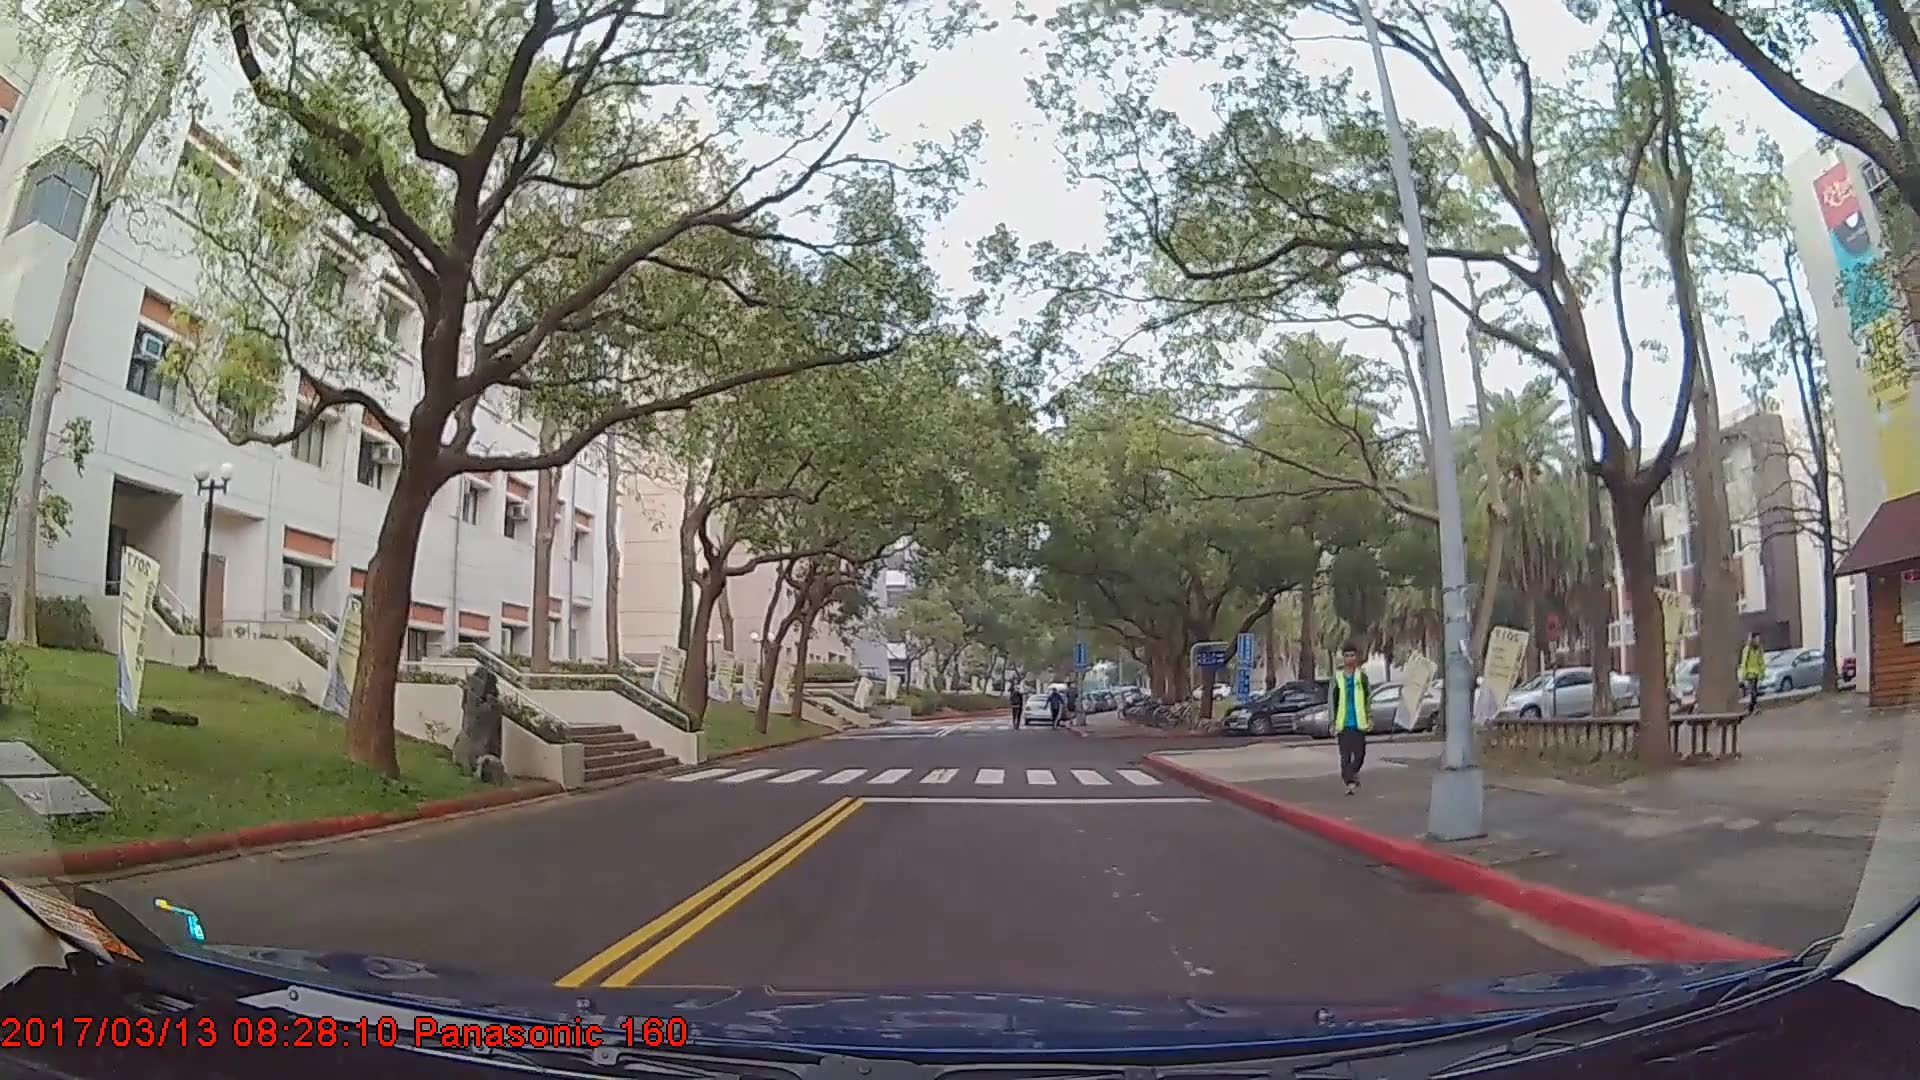pedestrian: (1327, 642, 1375, 793), (1651, 633, 1683, 719), (1744, 631, 1767, 715), (1047, 685, 1067, 730)
vehicle: (1299, 677, 1459, 736), (1490, 664, 1635, 726), (1225, 675, 1352, 732), (1746, 644, 1834, 695), (1021, 692, 1057, 725)
